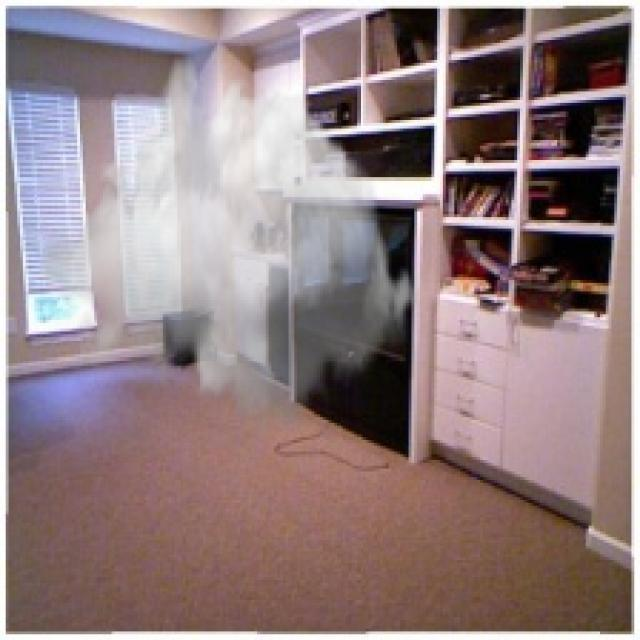Smoke: (40, 51, 420, 443)
